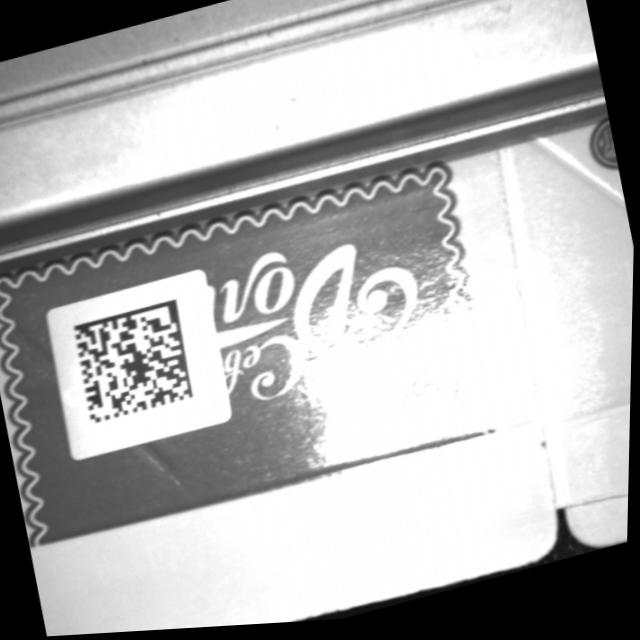datamatrix: (70, 299, 200, 427)
